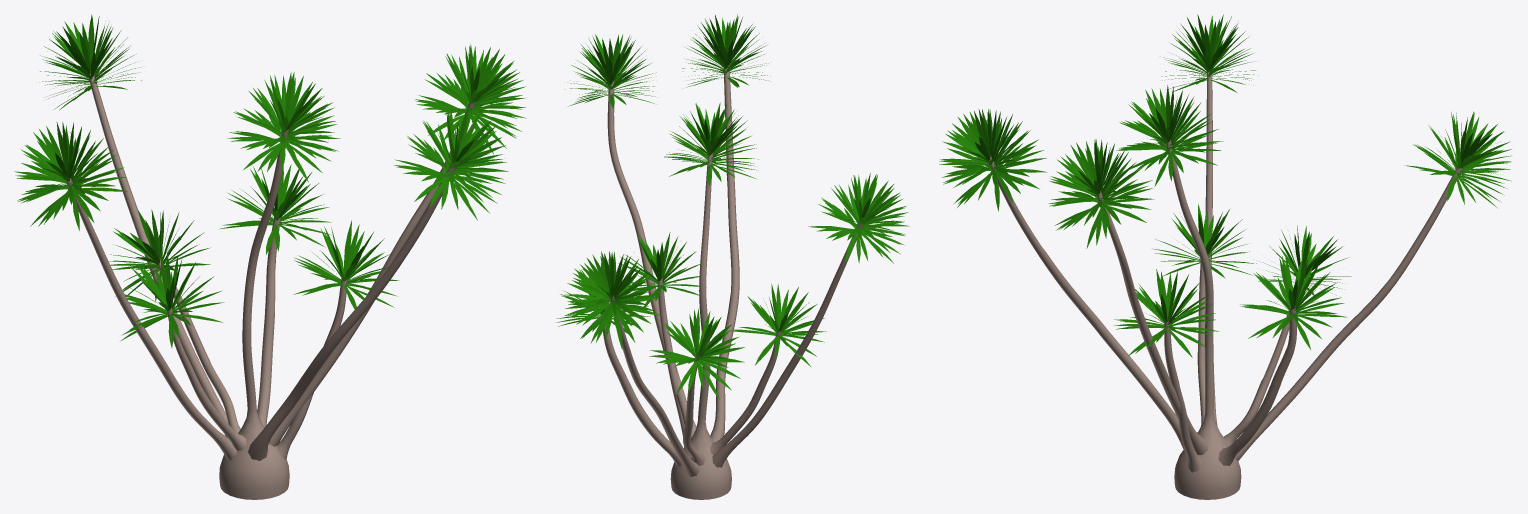
Rendered from trees_12.FBX.
3 renders of one model, left to right at view 1: azimuth 30°, elevation 25°; view 2: azimuth 150°, elevation 25°; view 3: azimuth 270°, elevation 25°, orthographic. The views are drawn at different scales.
Parts seen in each view (by area): view 1: Foliage008; view 2: Foliage008; view 3: Foliage008.
Boxes of the visible parts, box(x1,y1,x2,y2) form: Foliage008: box(14, 14, 526, 499); Foliage008: box(555, 14, 909, 499); Foliage008: box(939, 14, 1511, 499).
Bounding box in the file's own units: 197 × 188 × 234.
